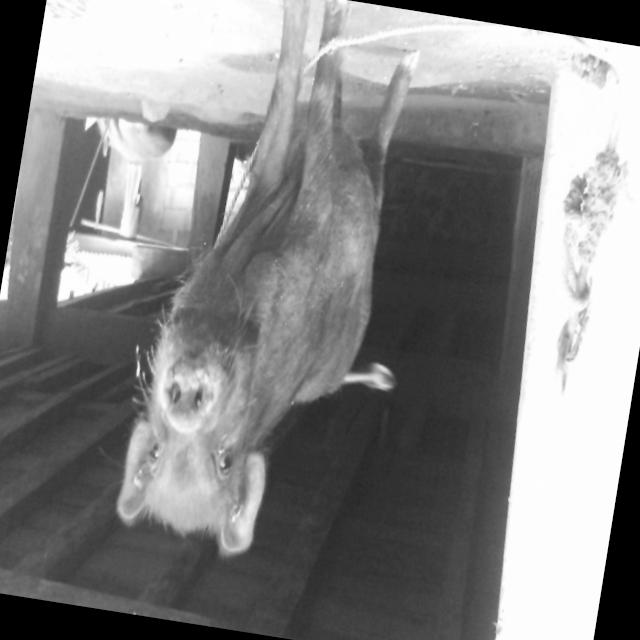pig: (117, 0, 420, 556)
